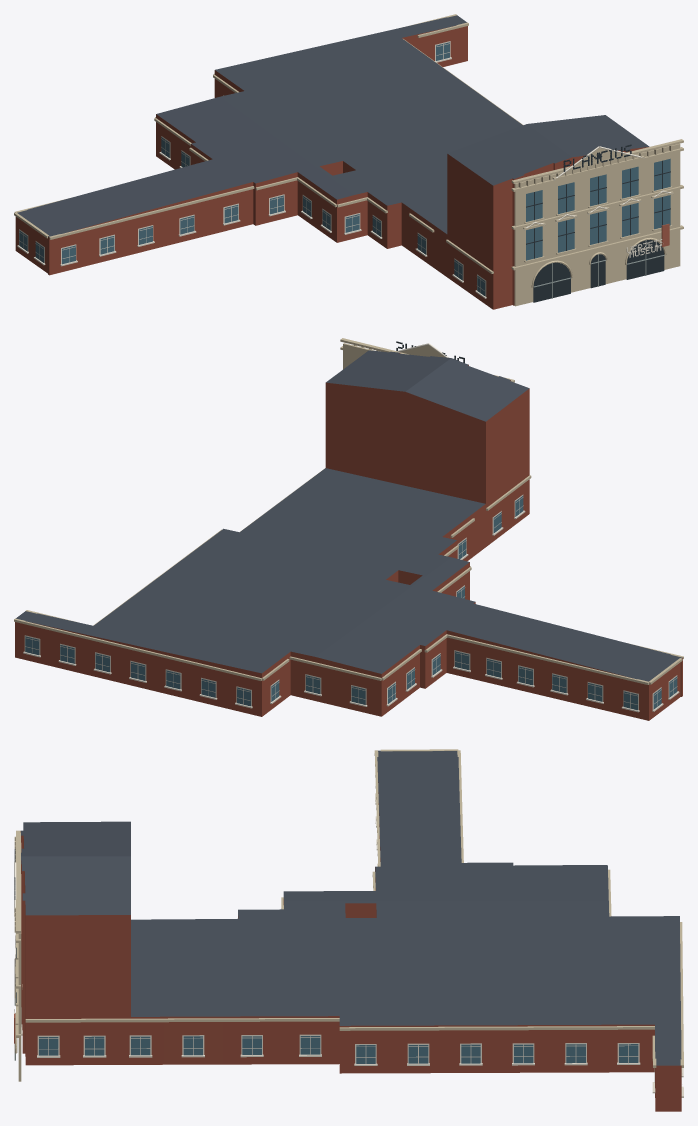
Rendered from dutch-resistance-museum.glb.
The picture shows the model from 3 angles, top to bottom: view 1: azimuth 30°, elevation 25°; view 2: azimuth 150°, elevation 25°; view 3: azimuth 270°, elevation 25°; orthographic projection. The views are drawn at different scales.
Visible parts, largest first — view 1: dutch-resistance-museum; view 2: dutch-resistance-museum; view 3: dutch-resistance-museum.
Part boxes in pixels (x1,y1,x2,y2): dutch-resistance-museum: [14, 14, 683, 309]; dutch-resistance-museum: [14, 338, 683, 720]; dutch-resistance-museum: [14, 749, 683, 1111].
Size of the model in its own units: 71.11 by 17.89 by 63.7.
